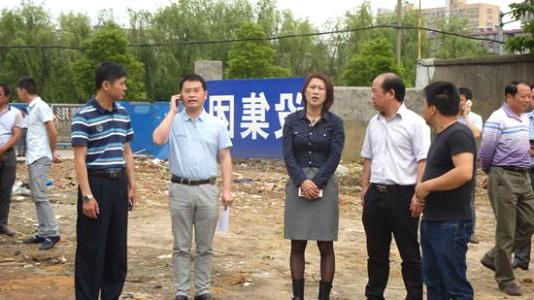no_helmet: (91, 59, 131, 105), (368, 70, 407, 115), (422, 81, 462, 124), (298, 70, 336, 111), (176, 71, 211, 113), (503, 80, 530, 114), (12, 74, 39, 103), (457, 86, 475, 113)
